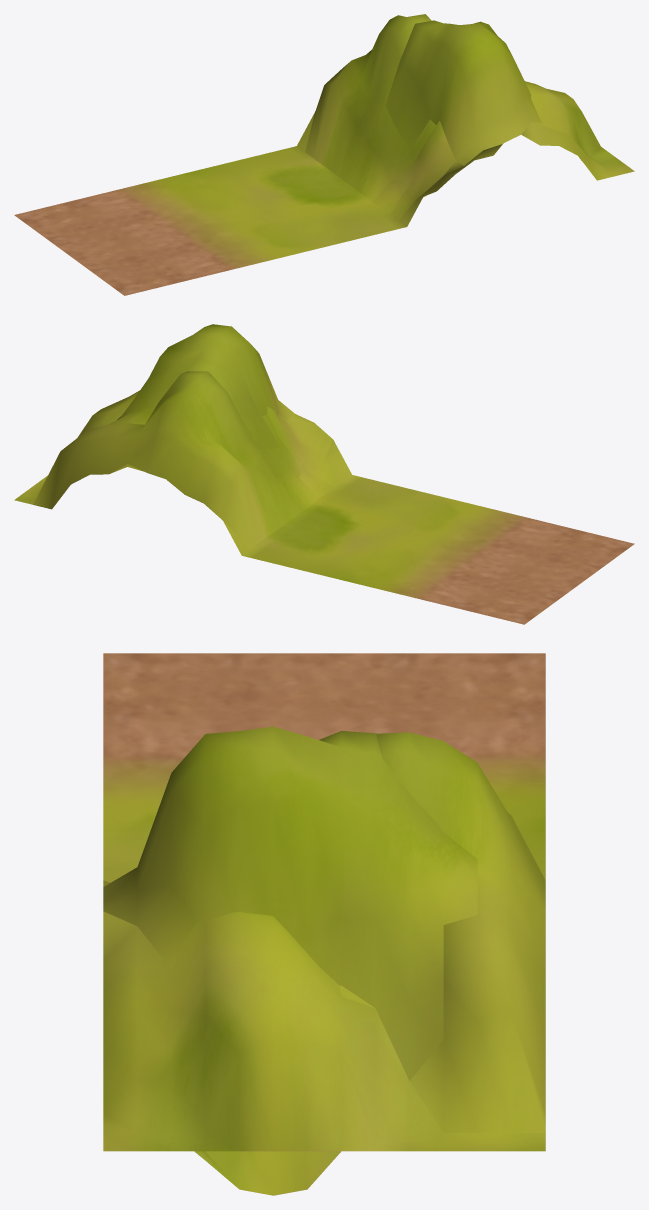
File: Terrain.fbx
3 views of the same model, one above another, from view 1: azimuth 30°, elevation 25°; view 2: azimuth 150°, elevation 25°; view 3: azimuth 270°, elevation 25° (orthographic). The views are drawn at different scales.
Visible parts, largest first — view 1: Terrain1, Terrain4, Terrain3, Terrain2; view 2: Terrain1, Terrain3, Terrain4, Terrain2; view 3: Terrain1, Terrain4, Terrain3.
Part boxes in pixels (box(x1,y1,x2,y2)): Terrain1: box(14, 81, 634, 295); Terrain4: box(385, 20, 581, 165); Terrain3: box(305, 14, 455, 220); Terrain2: box(373, 121, 463, 214); Terrain1: box(14, 390, 634, 624); Terrain3: box(33, 371, 343, 549); Terrain4: box(108, 324, 294, 448); Terrain2: box(267, 407, 334, 499); Terrain1: box(103, 653, 545, 1151); Terrain4: box(103, 726, 477, 1195); Terrain3: box(339, 732, 545, 1132).
Size of the model in its own units: 12000 by 3814 by 4500.
